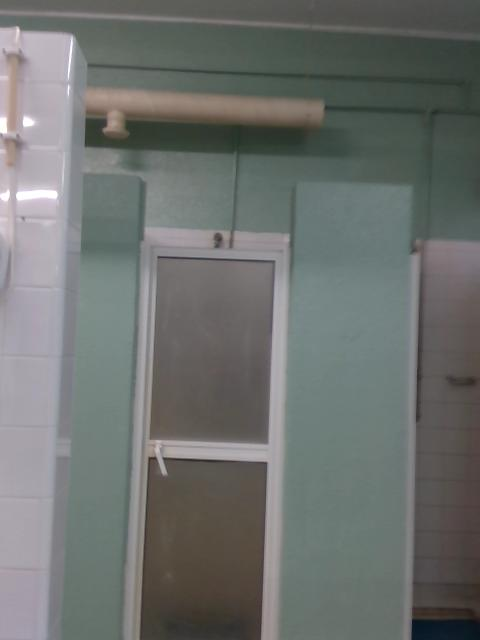door: (135, 247, 284, 640)
